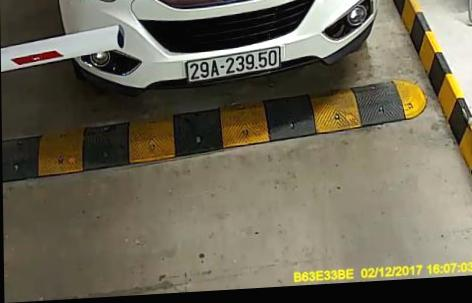License_Plate: (180, 42, 287, 83)
